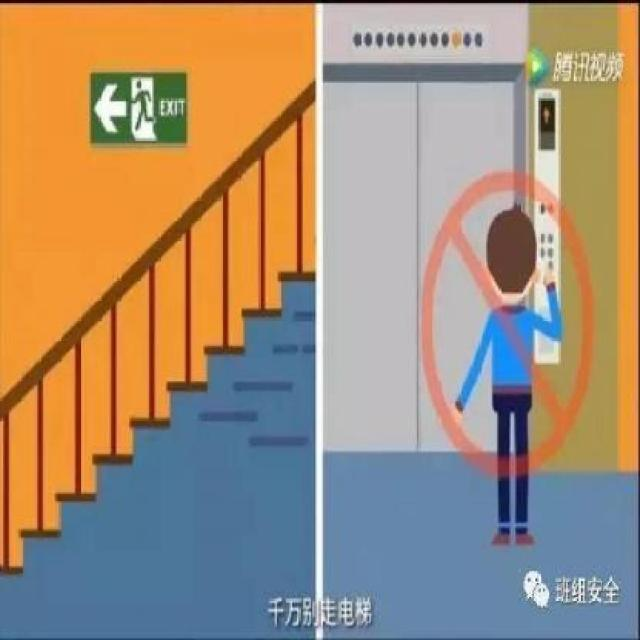exit_sign: (88, 68, 192, 153)
